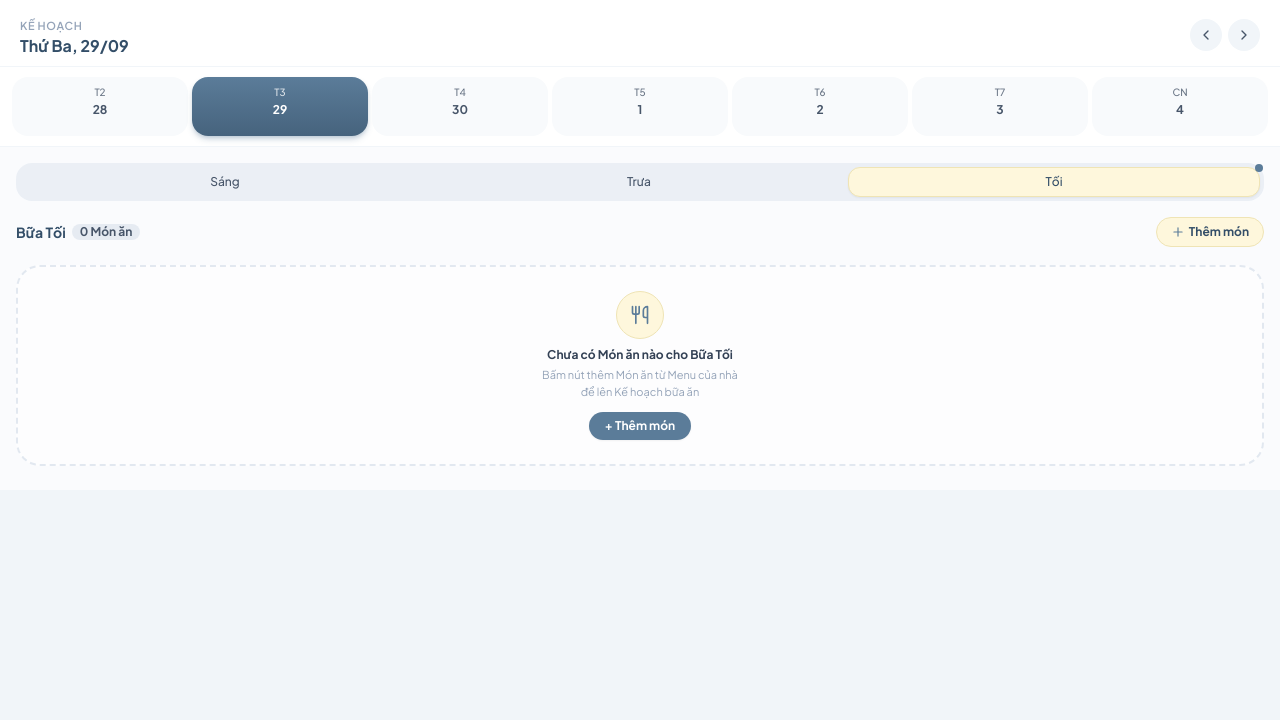
Test: Weekly Plan Integration › opens Bottom Sheet Drawer on "+ Thêm Món ăn" and supports instant search by name and tag
Click the button with test id "add-dish-to-plan-btn" at coordinates (1210, 232), box [1156, 217, 1264, 247]
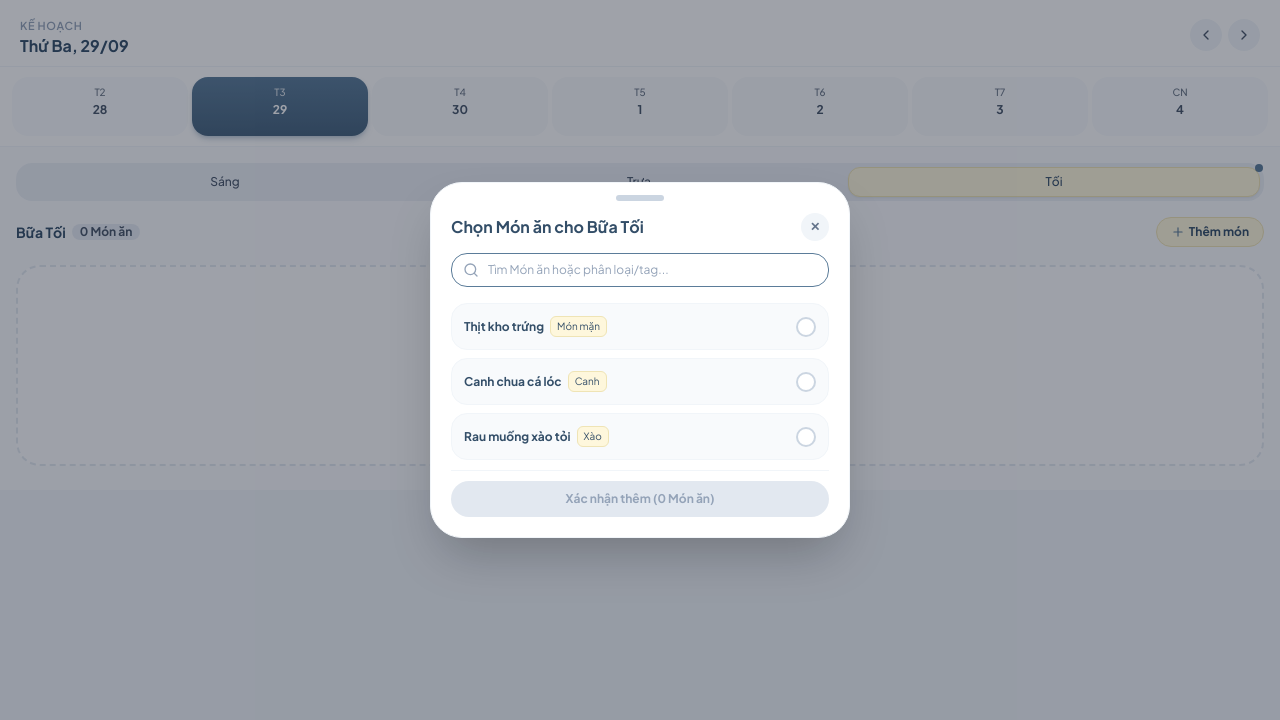
Now the dialog with test id "dish-picker-drawer" is shown
Now the heading "Chọn Món ăn cho Bữa Tối" is shown, box [451, 215, 644, 239]
Now the text "Thịt kho trứng" is shown, box [464, 318, 544, 334]
Search by name (including diacritic-free typing)
Type "thit" into the field with test id "picker-search-input" at coordinates (640, 270), box [451, 253, 829, 287]
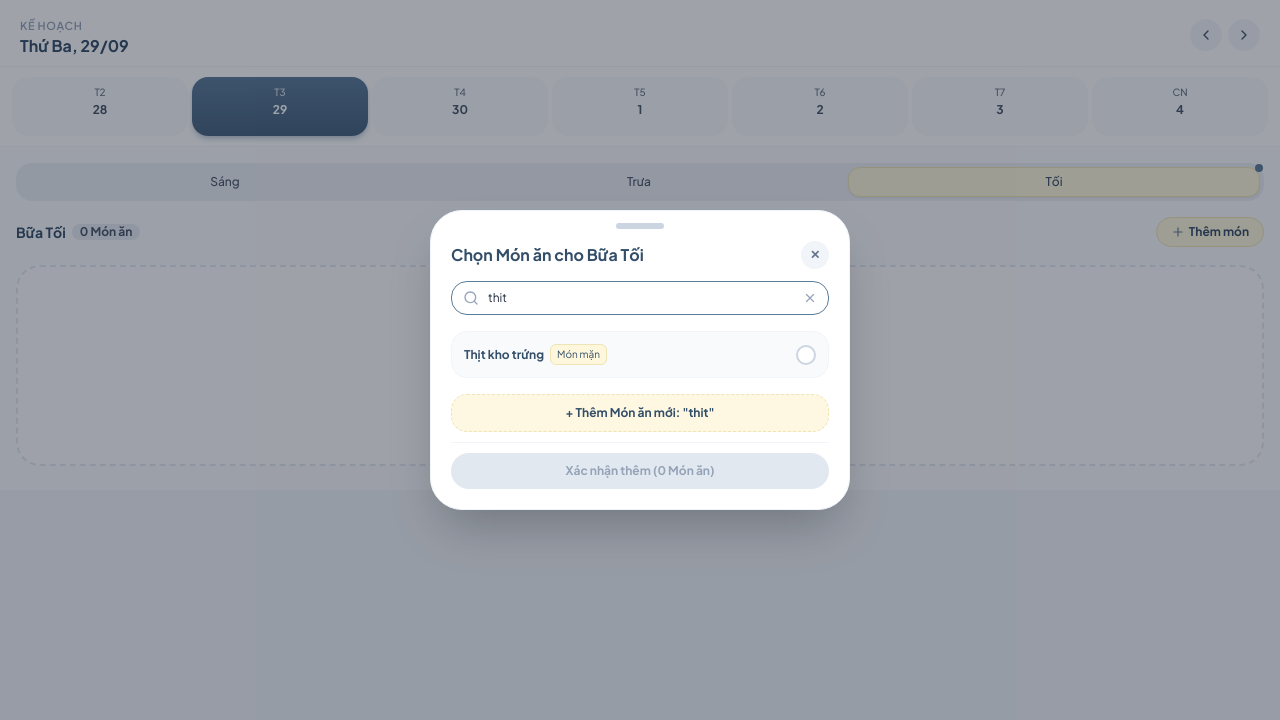
Now the text "Thịt kho trứng" is shown, box [464, 346, 544, 362]
Now the text "Canh chua cá lóc" is gone
Search by tag
Clear the field with test id "picker-search-input" at coordinates (640, 298), box [451, 281, 829, 315]
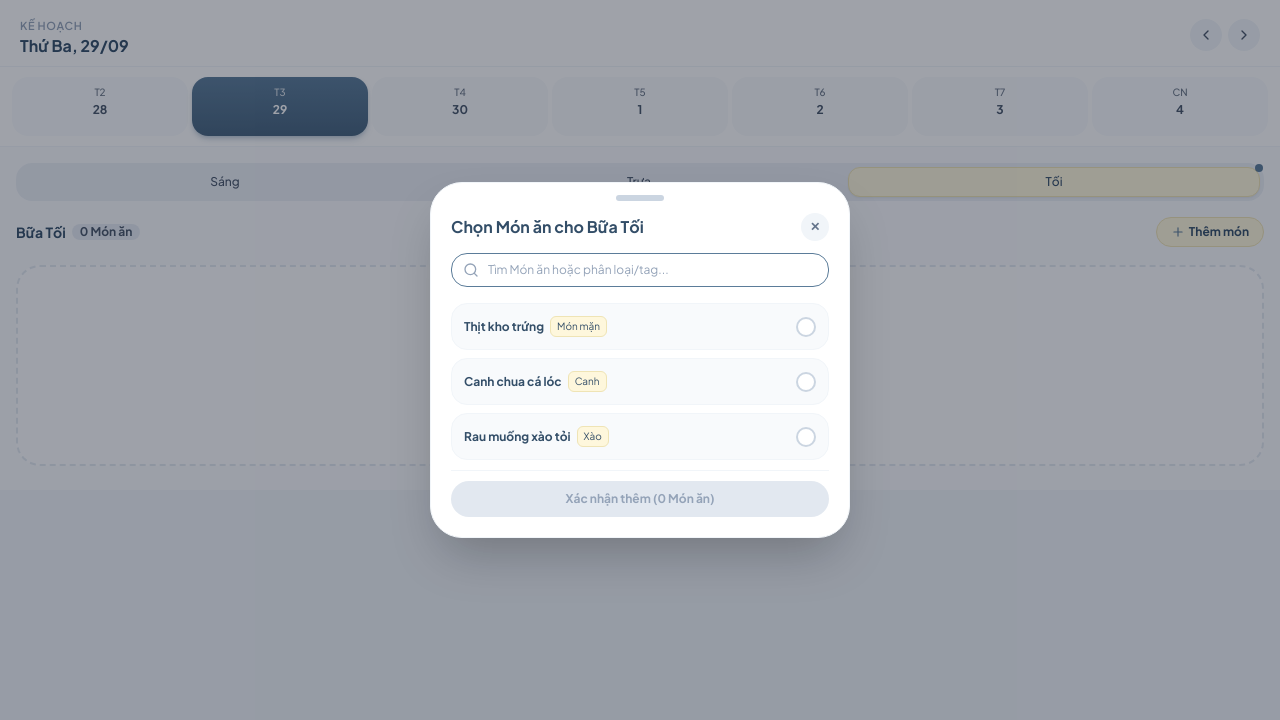
Type "Xào" into the field with test id "picker-search-input" at coordinates (640, 270), box [451, 253, 829, 287]
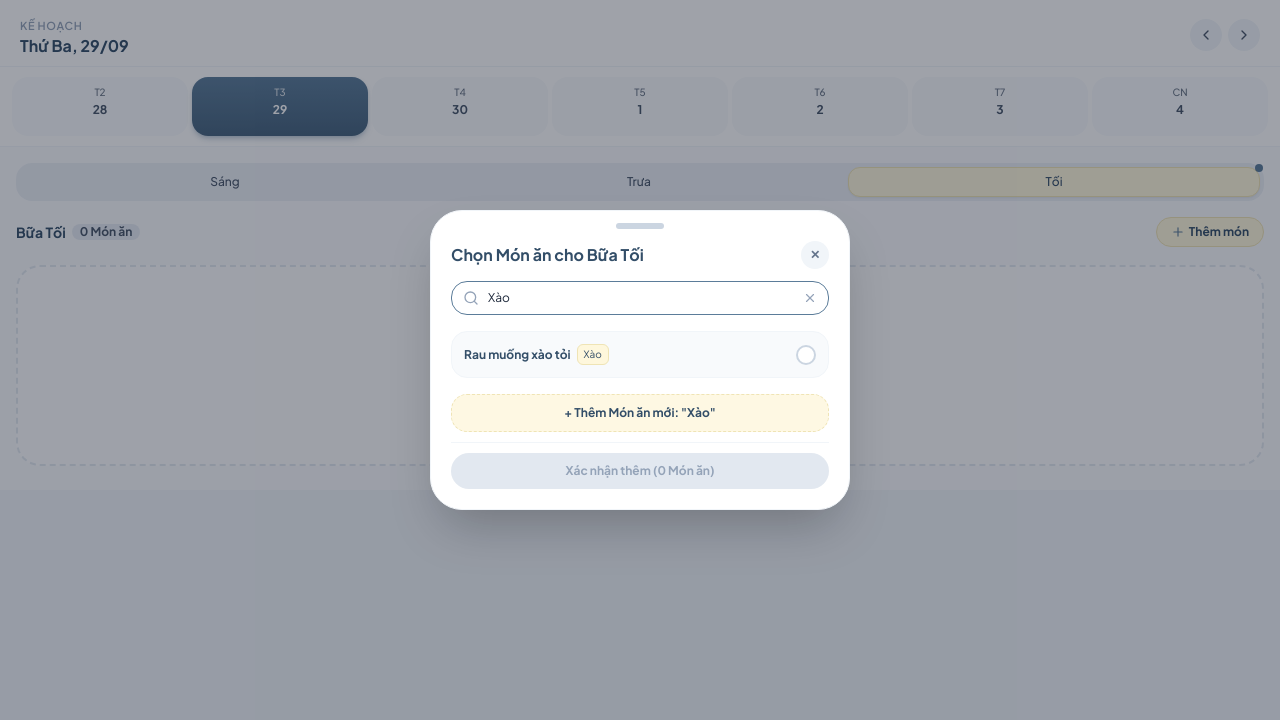
Now the text "Rau muống xào tỏi" is shown, box [464, 346, 571, 362]
Now the text "Thịt kho trứng" is gone
Search with no results
Clear the field with test id "picker-search-input" at coordinates (640, 298), box [451, 281, 829, 315]
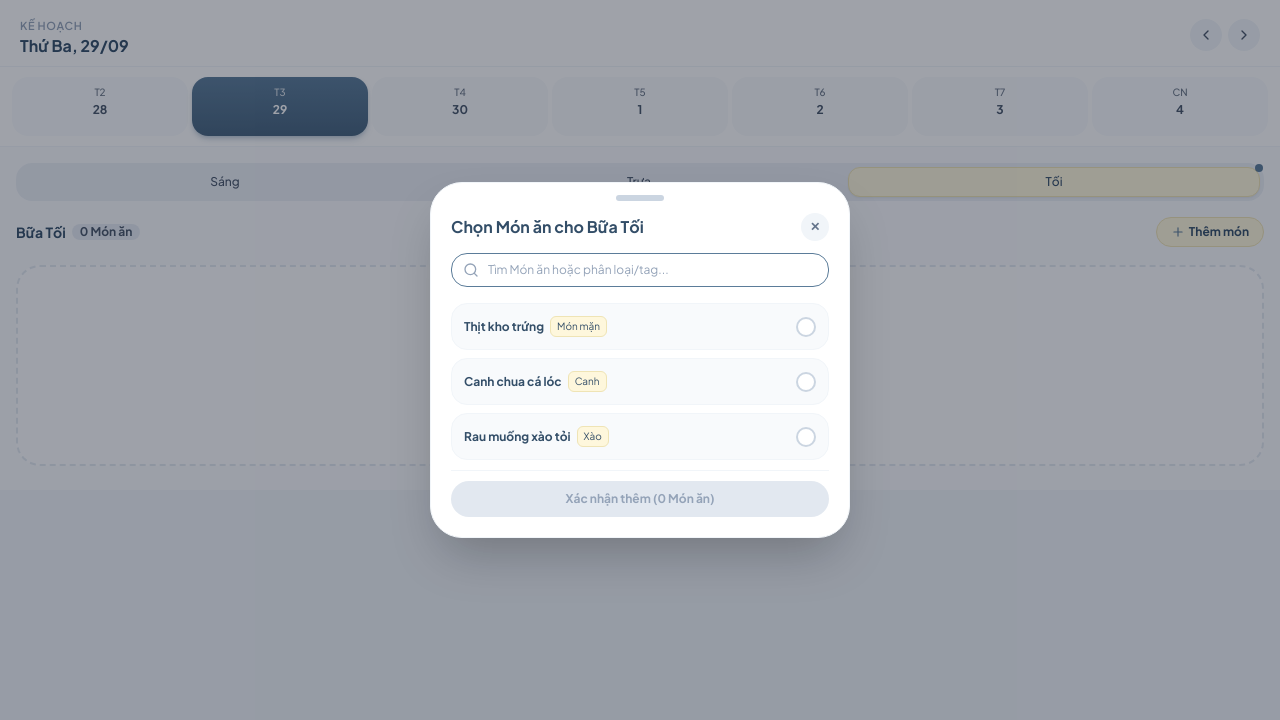
Type "Khong co mon" into the field with test id "picker-search-input" at coordinates (640, 270), box [451, 253, 829, 287]
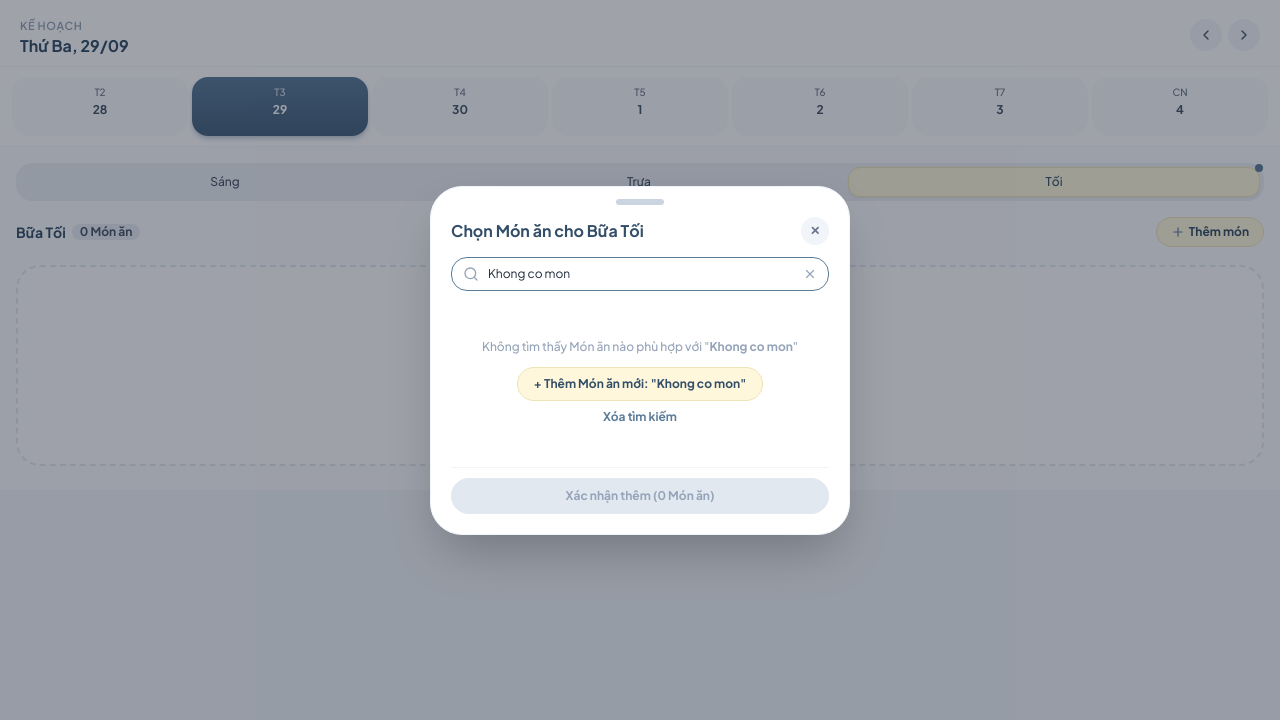
Now the text "Không tìm thấy Món ăn nào phù hợp với \"Khong co mon\"" is shown, box [482, 338, 798, 354]
